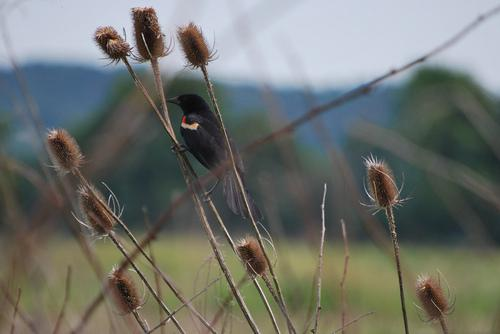010.Red_winged_Blackbird: (163, 91, 267, 229)
